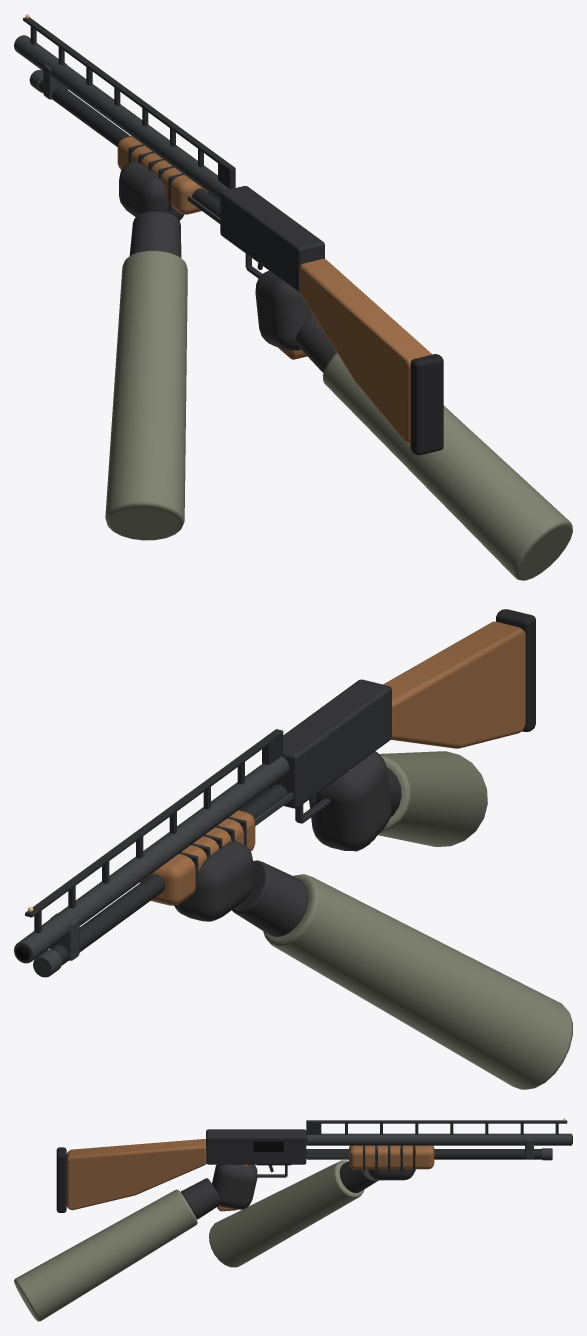
Rendered from keiler.glb.
The picture shows the model from 3 angles, top to bottom: view 1: azimuth 30°, elevation 25°; view 2: azimuth 150°, elevation 25°; view 3: azimuth 270°, elevation 25°; orthographic projection. The views are drawn at different scales.
Visible parts, largest first — view 1: SleeveL, SleeveR, Stock, Receiver, Barrel, ButtPad, HandR, HandL, PumpWood, WristL, MagTube, VentRib (+1 smaller); view 2: SleeveL, Stock, Receiver, SleeveR, Barrel, HandR, HandL, WristL, PumpWood, MagTube, VentRib, ButtPad (+1 smaller); view 3: SleeveR, SleeveL, Stock, Barrel, Receiver, PumpWood, HandR, MagTube, VentRib, WristR, WristL, ButtPad (+2 smaller).
Boxes of the visible parts, left/top/right/bottom form: SleeveL: left=105, top=250, right=187, bottom=540; SleeveR: left=322, top=352, right=572, bottom=580; Stock: left=299, top=258, right=432, bottom=443; Receiver: left=220, top=186, right=324, bottom=291; Barrel: left=14, top=35, right=234, bottom=200; ButtPad: left=410, top=354, right=443, bottom=455; HandR: left=255, top=270, right=313, bottom=350; HandL: left=119, top=160, right=184, bottom=220; PumpWood: left=117, top=136, right=207, bottom=214; WristL: left=129, top=211, right=181, bottom=257; MagTube: left=39, top=79, right=220, bottom=217; VentRib: left=23, top=17, right=235, bottom=171; SleeveL: left=263, top=874, right=572, bottom=1089; Stock: left=383, top=621, right=525, bottom=748; Receiver: left=269, top=679, right=391, bottom=808; SleeveR: left=378, top=751, right=487, bottom=846; Barrel: left=14, top=756, right=289, bottom=963; HandR: left=309, top=751, right=391, bottom=851; HandL: left=174, top=840, right=253, bottom=921; WristL: left=232, top=860, right=308, bottom=936; PumpWood: left=140, top=810, right=255, bottom=905; MagTube: left=50, top=784, right=287, bottom=965; VentRib: left=25, top=729, right=283, bottom=917; ButtPad: left=496, top=609, right=535, bottom=731; SleeveR: left=14, top=1189, right=197, bottom=1321; SleeveL: left=209, top=1160, right=363, bottom=1267; Stock: left=66, top=1139, right=206, bottom=1210; Barrel: left=306, top=1133, right=572, bottom=1145; Receiver: left=206, top=1129, right=306, bottom=1164; PumpWood: left=349, top=1145, right=434, bottom=1169; HandR: left=212, top=1164, right=257, bottom=1209; MagTube: left=306, top=1149, right=541, bottom=1159; VentRib: left=306, top=1120, right=567, bottom=1123; WristR: left=181, top=1178, right=220, bottom=1219; WristL: left=339, top=1161, right=378, bottom=1192; ButtPad: left=56, top=1147, right=66, bottom=1212.
Size of the model in its own units: 0.4387 by 0.419 by 1.11.
